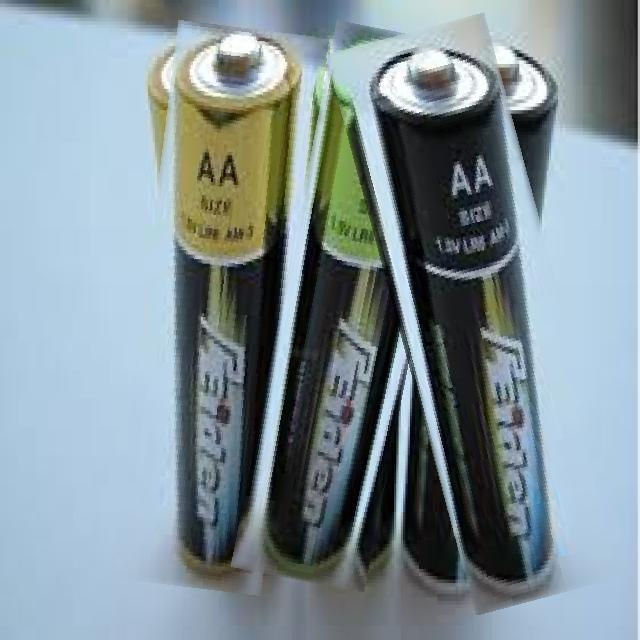Battery: (365, 39, 573, 605), (138, 16, 275, 585), (272, 42, 387, 594)
